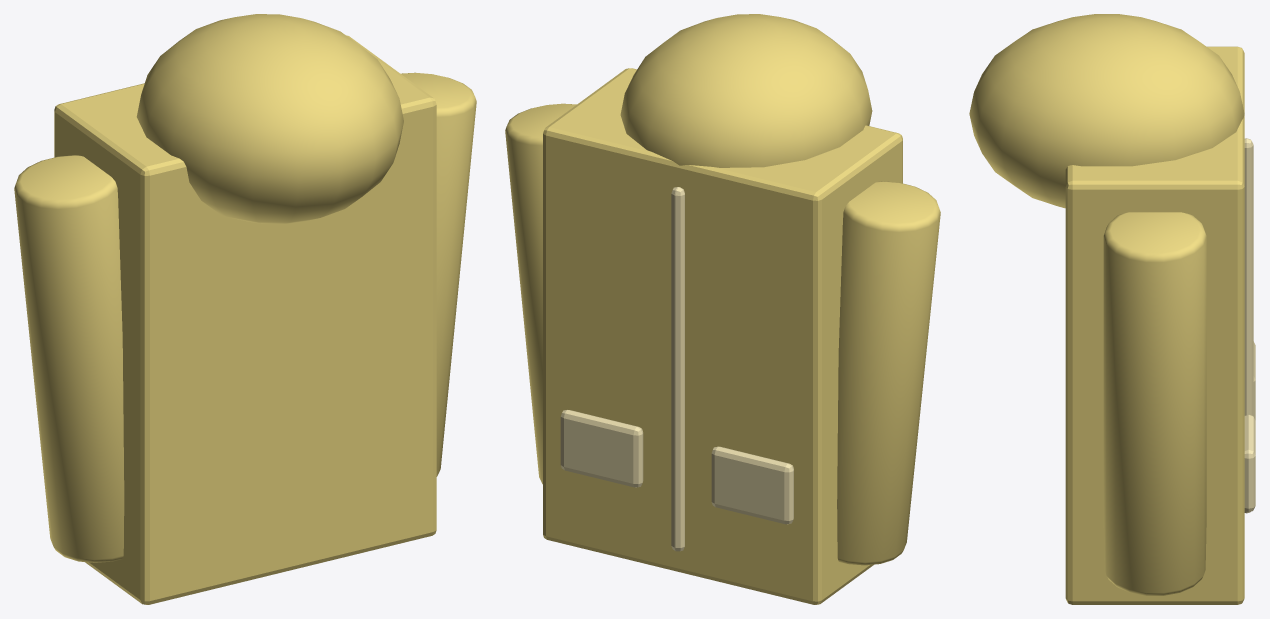
The model's file is VM-DAM-FS16.glb.
The picture shows the model from 3 angles, left to right: view 1: azimuth 30°, elevation 25°; view 2: azimuth 150°, elevation 25°; view 3: azimuth 270°, elevation 25°; orthographic projection. The views are drawn at different scales.
Visible parts, largest first — view 1: Chaqueta Mujer Desmontable con Capucha; view 2: Chaqueta Mujer Desmontable con Capucha; view 3: Chaqueta Mujer Desmontable con Capucha.
Part boxes in pixels (bbox=[...]): Chaqueta Mujer Desmontable con Capucha: bbox=[14, 14, 476, 604]; Chaqueta Mujer Desmontable con Capucha: bbox=[505, 14, 940, 604]; Chaqueta Mujer Desmontable con Capucha: bbox=[969, 14, 1255, 604].
Size of the model in its own units: 0.6892 by 0.7752 by 0.3952.
